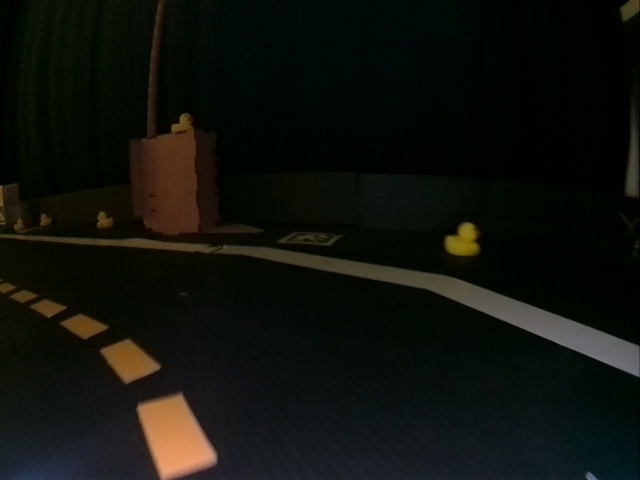Duckie: (446, 222, 480, 255), (171, 113, 191, 129), (96, 211, 113, 228), (42, 213, 52, 226), (14, 221, 22, 231)
QR code: (282, 231, 339, 246)
